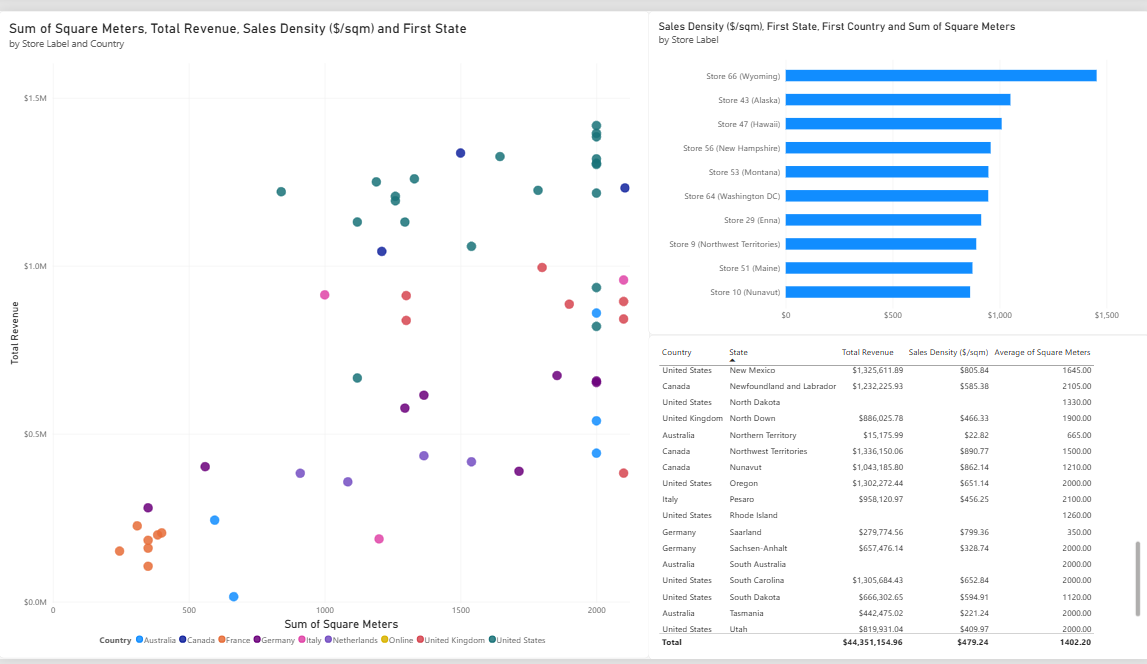

The page's visual inventory and layout, read from the dashboard file:
{"tool":"powerbi","page":{"name":"Store & Footprint Optimization","canvas":[1920,1080],"ordinal":2},"visuals":[{"type":"scatterChart","fields":{"Category":["Dim_stores.Store Label"],"Series":["Dim_stores.Country"],"X":["Sum(Dim_stores.Square Meters)"],"Y":["_Measures.Total Revenue"]},"box":[0,0,1084.2,1078.9],"z":0},{"type":"clusteredBarChart","fields":{"Category":["Dim_stores.Store Label"],"Y":["_Measures.Sales Density ($/sqm)"]},"box":[1083.2,0,837.5,539.2],"z":1000},{"type":"tableEx","fields":{"Values":["Dim_stores.Country","Dim_stores.State","_Measures.Total Revenue","_Measures.Sales Density ($/sqm)","Avg(Dim_stores.Square Meters)"]},"box":[1083.2,539.2,837.5,541.6],"z":1001}]}

Visuals, with their boxes in screenshot pixels (x1, y1, x2, y2), scaled from the page's 1920x1080 canvas onto the 1147x664 screenshot:
scatterChart - Dim_stores.Store Label x Dim_stores.Country: rect(0, 0, 648, 663)
clusteredBarChart - Dim_stores.Store Label x _Measures.Sales Density ($/sqm): rect(647, 0, 1146, 332)
tableEx - Dim_stores.Country x Dim_stores.State: rect(647, 332, 1146, 663)
